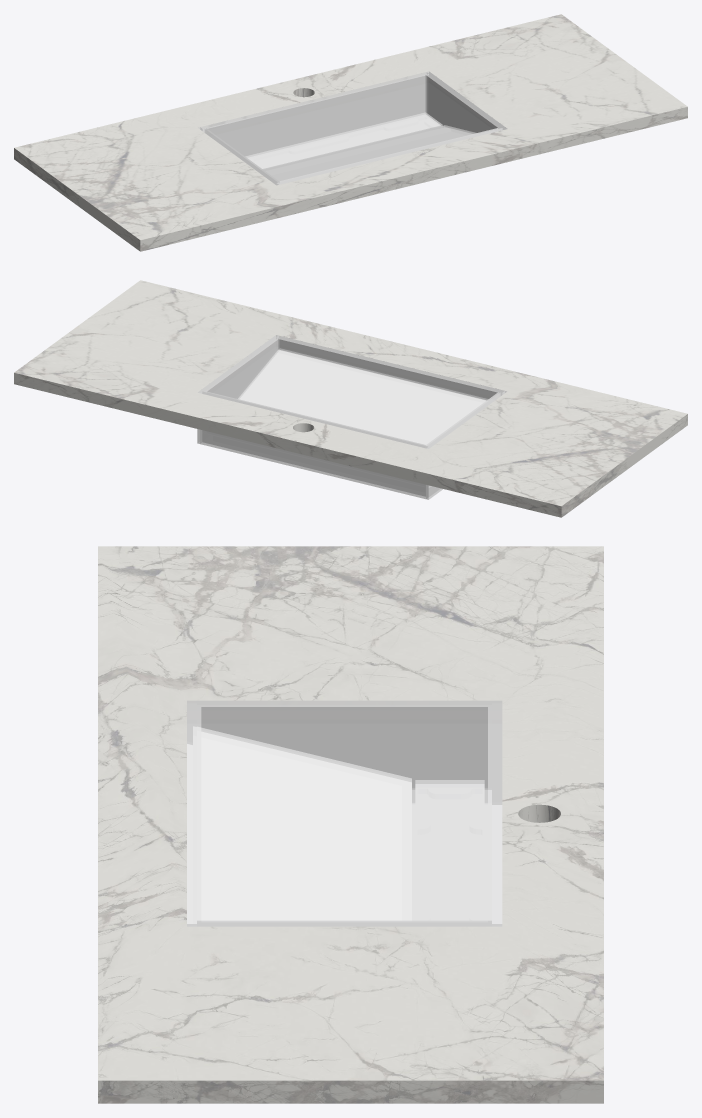
Rendered from GLS912_1.glb.
3 renders of one model, top to bottom at view 1: azimuth 30°, elevation 25°; view 2: azimuth 150°, elevation 25°; view 3: azimuth 270°, elevation 25°, orthographic. The views are drawn at different scales.
Visible parts, largest first — view 1: GLS 912|1 cer, GLS 912|1(встраиваемая); view 2: GLS 912|1 cer, GLS 912|1(встраиваемая); view 3: GLS 912|1 cer, GLS 912|1(встраиваемая).
Part boxes in pixels (x1,y1,x2,y2): GLS 912|1 cer: (14, 14, 687, 251); GLS 912|1(встраиваемая): (198, 71, 507, 185); GLS 912|1 cer: (14, 280, 687, 517); GLS 912|1(встраиваемая): (197, 335, 506, 499); GLS 912|1 cer: (98, 546, 603, 1103); GLS 912|1(встраиваемая): (187, 700, 502, 926).
Size of the model in its own units: 1.5 by 0.133 by 0.6.
Materials: 3 (1 with a texture image).
